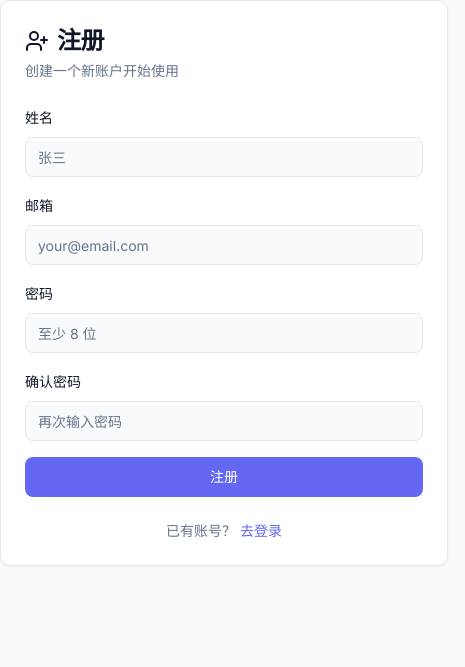
Test: RegisterForm › 表单验证 › 应该验证姓名长度
The image size is (465, 667).
# 输入少于 2 位
Type "a" into the field labelled "姓名" at {"x": 224, "y": 157}, box top-left (25, 137), bottom-right (423, 177)
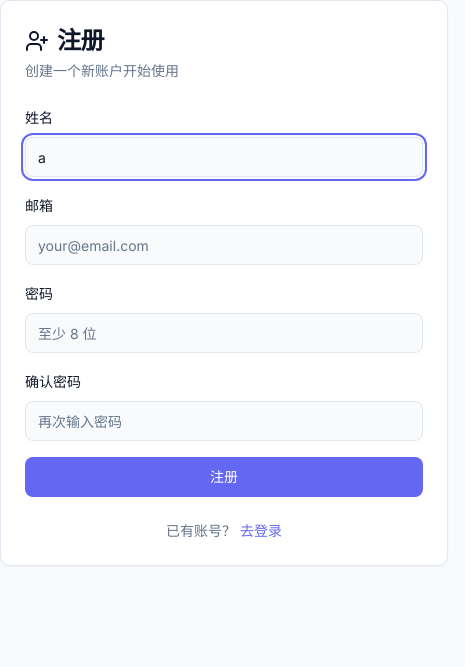
Click the button "注册" at {"x": 224, "y": 477}, box top-left (25, 457), bottom-right (423, 497)
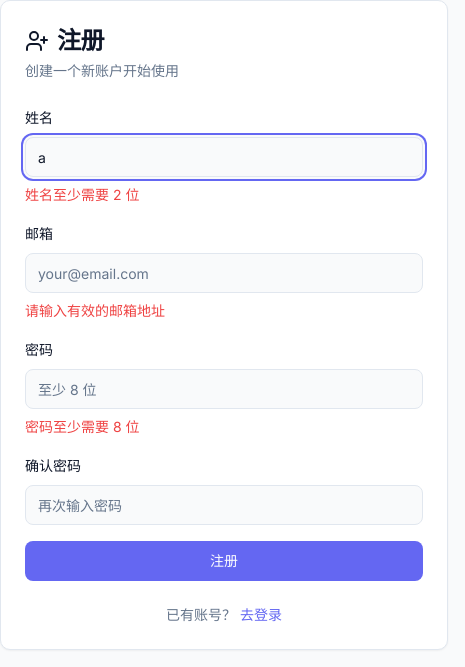
Check: the text "姓名至少需要 2 位" is shown, box top-left (25, 186), bottom-right (139, 203)
